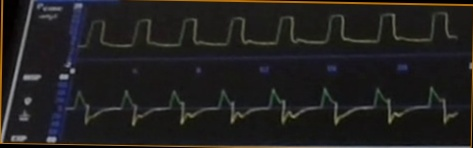Premature_cycling Flow: (71, 76, 461, 135)
